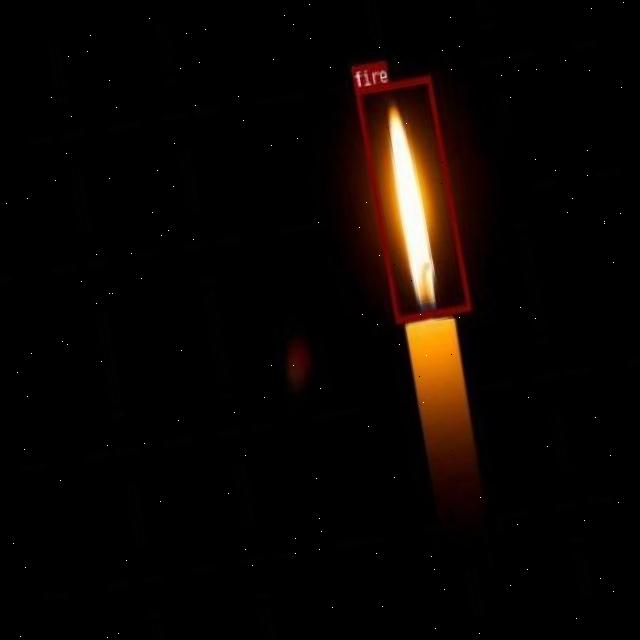fire: (353, 73, 470, 322)
